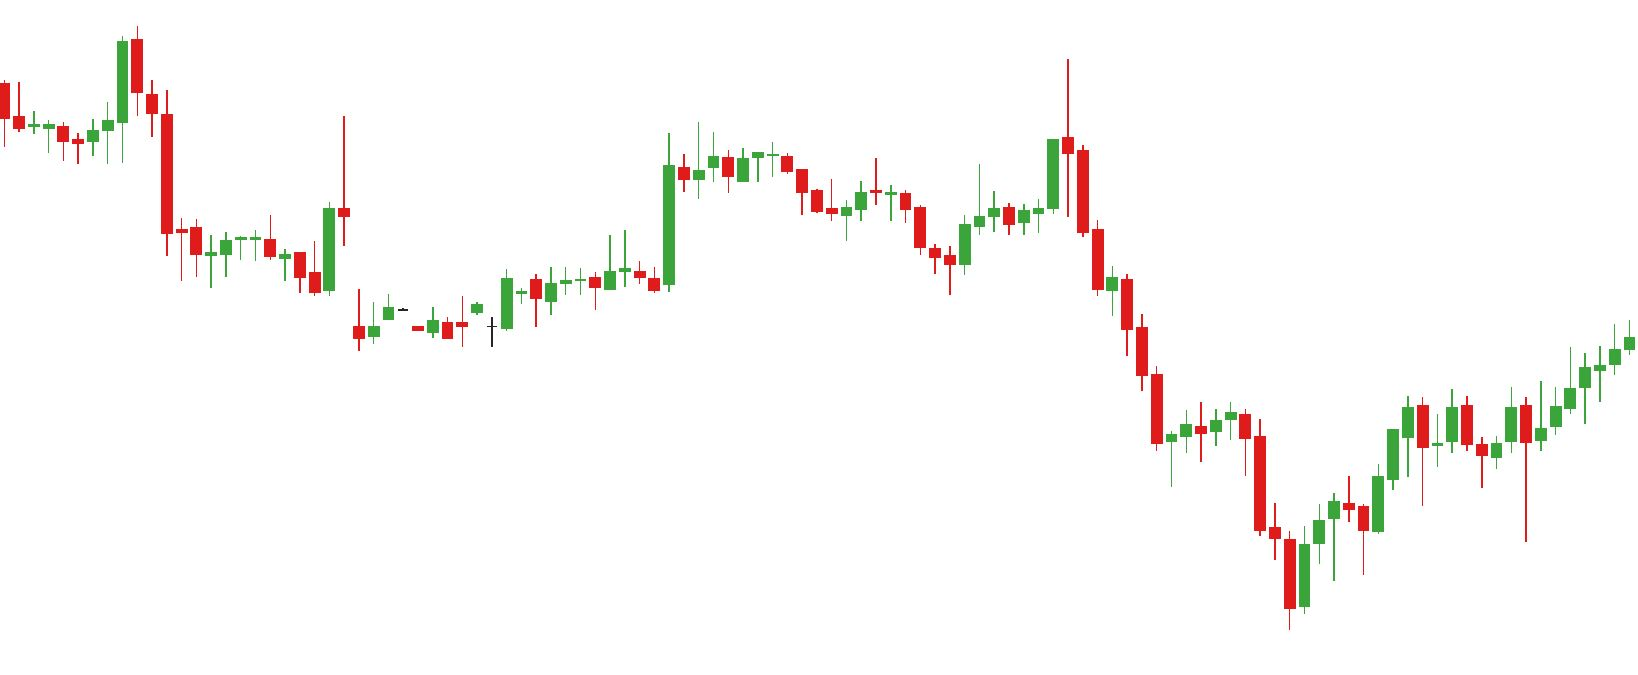buy: (1415, 415, 1535, 546)
sell: (972, 59, 1092, 223), (13, 25, 145, 121)
